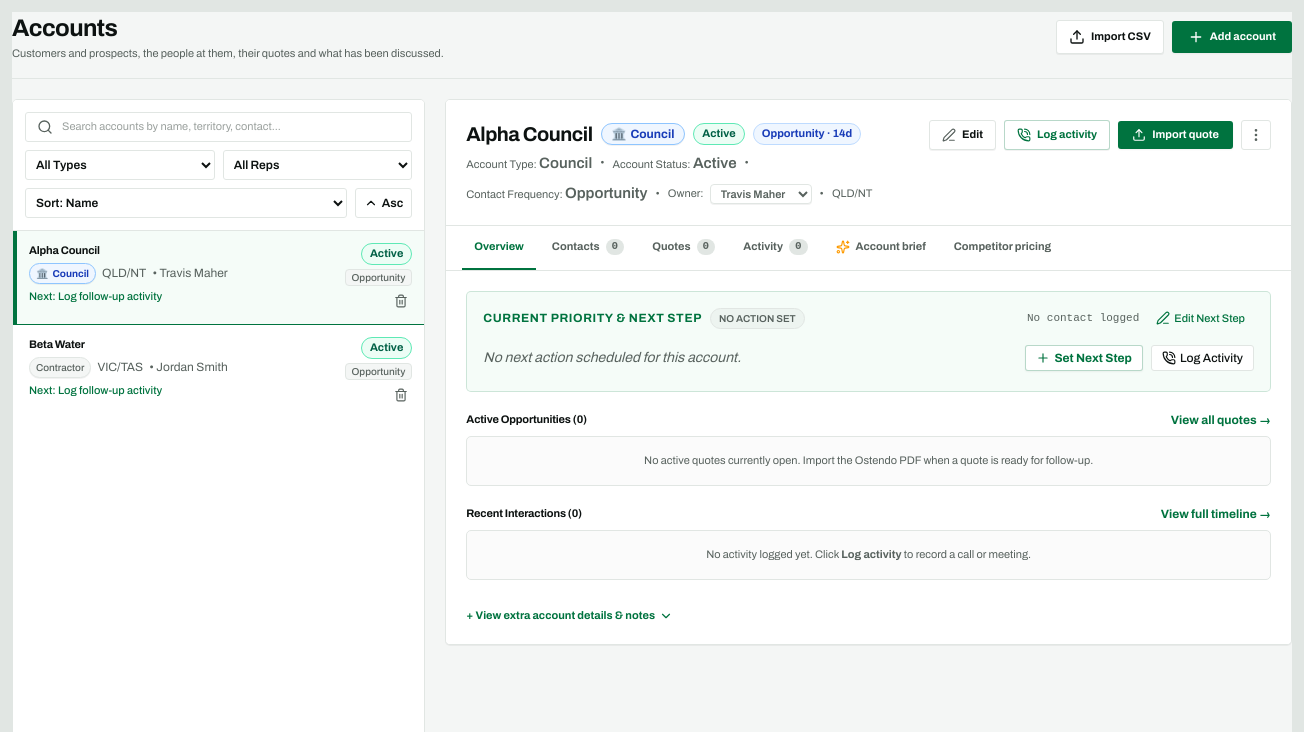
Test case: CRMAccountsView Component (Step 5) › Test 22 — Filter accounts by owner dropdown filters the directory list
The image size is (1304, 732).
Filter by Jordan Smith
Step 1. Select "Jordan Smith" in the dropdown named "Filter by owner" → (318, 165), box [223,150,412,180]
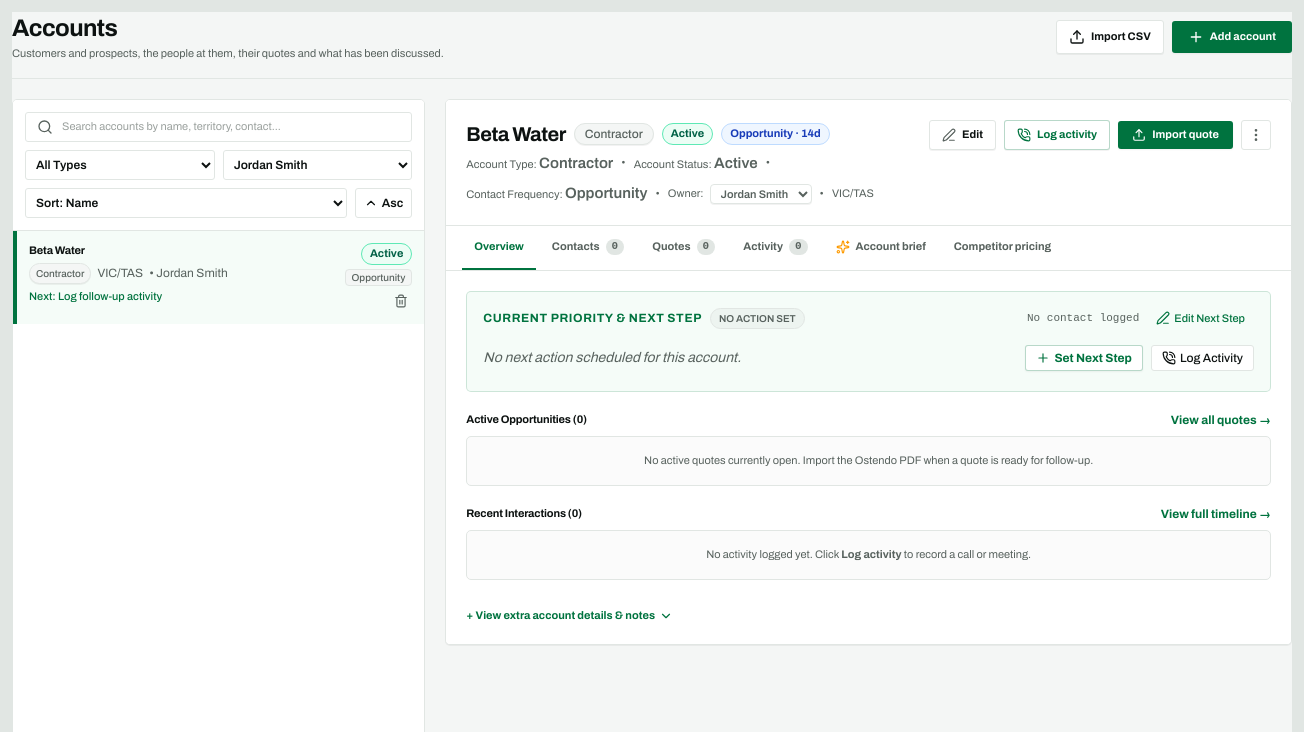
Expected: the heading "Alpha Council" is gone
